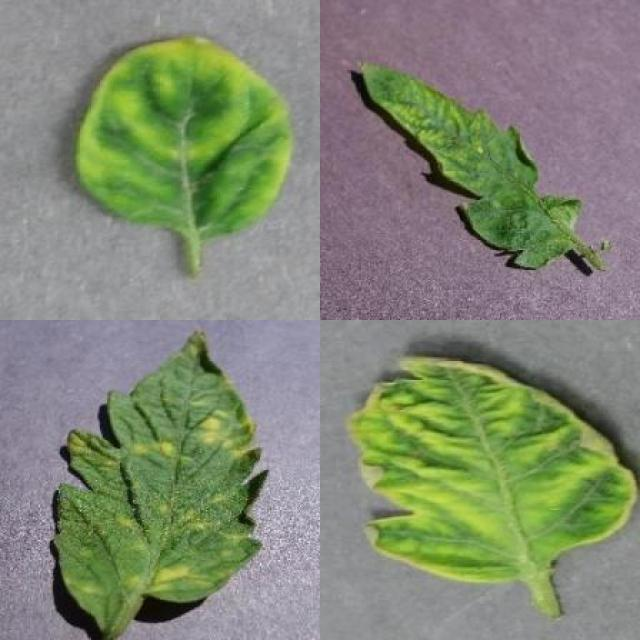Leaf Mold: (55, 324, 271, 624)
Mosaic Virus: (356, 61, 584, 269)
Yellow Leaf Curl Virus: (346, 355, 640, 585), (73, 34, 293, 240)
